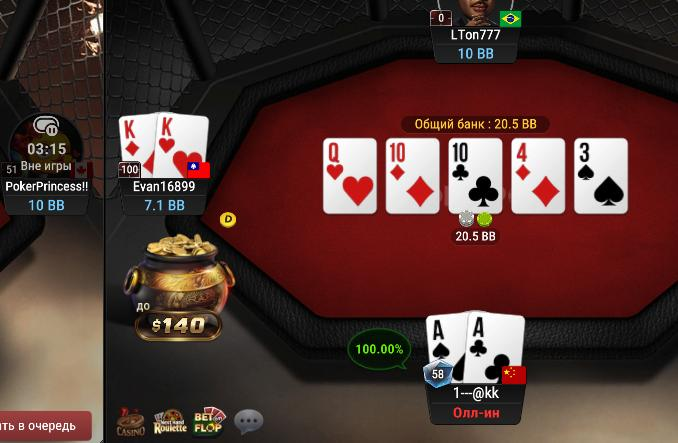10c: (449, 138, 502, 214)
10d: (386, 139, 439, 212)
3s: (576, 139, 628, 213)
4d: (512, 139, 565, 215)
Ac: (466, 313, 523, 382)
As: (426, 314, 466, 384)
Kd: (118, 115, 155, 181)
Kh: (156, 115, 207, 180)
Qh: (323, 139, 376, 213)
